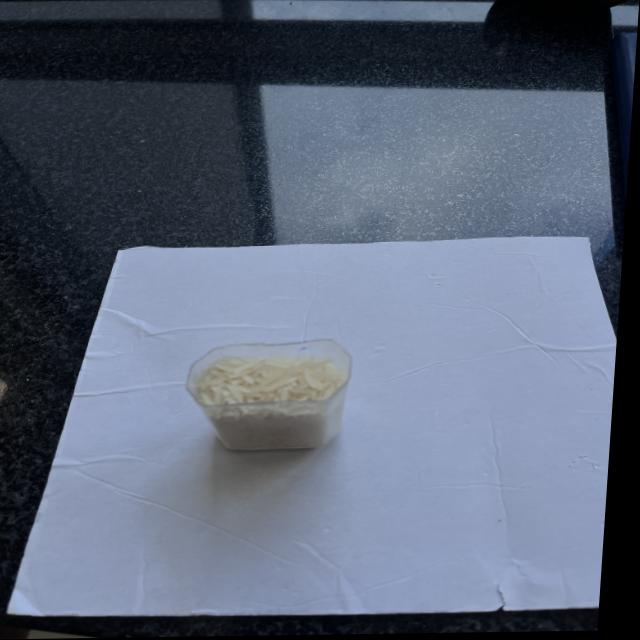raw_rice: (196, 352, 354, 455)
